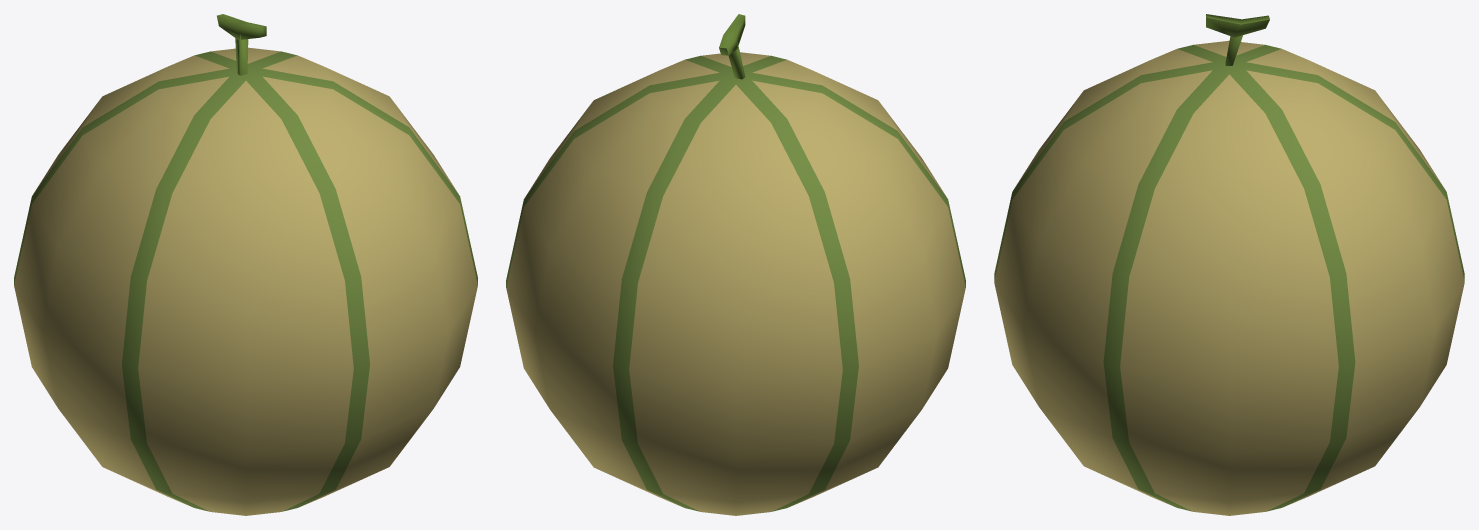
File: green_07.glb
3 views of the same model, side by side, from view 1: azimuth 30°, elevation 25°; view 2: azimuth 150°, elevation 25°; view 3: azimuth 270°, elevation 25° (orthographic). The views are drawn at different scales.
Parts seen in each view (by area): view 1: green_07; view 2: green_07; view 3: green_07.
Part boxes in pixels (x1=…): green_07: x1=14, y1=14, x2=477, y2=515; green_07: x1=506, y1=14, x2=965, y2=515; green_07: x1=994, y1=14, x2=1464, y2=515.
Bounding box in the file's own units: 0.4007 × 0.4438 × 0.3964.
1 material, 1 textured.
